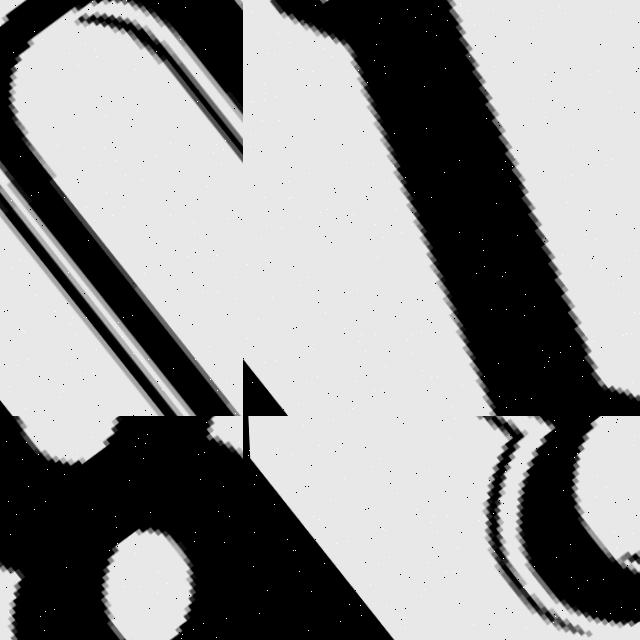8: (0, 416, 243, 640)
I: (270, 0, 640, 416)
R: (477, 416, 640, 630)
U: (0, 0, 243, 416)
